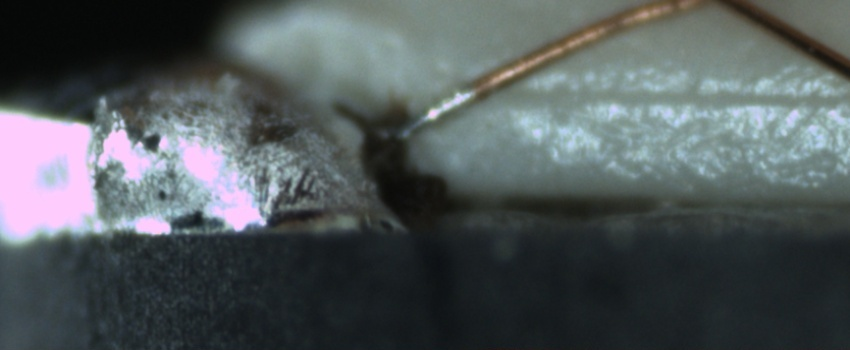DL: (487, 63, 850, 133)
TS: (393, 85, 477, 142)
